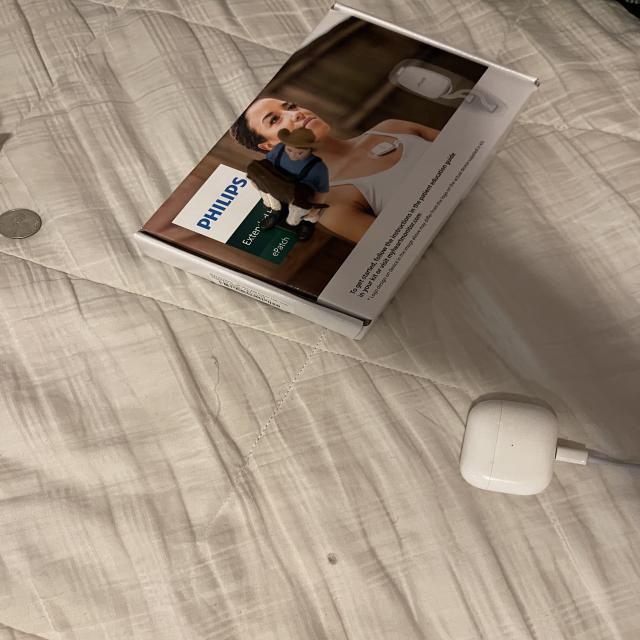cow: (233, 153, 326, 234)
person: (260, 117, 349, 197)
